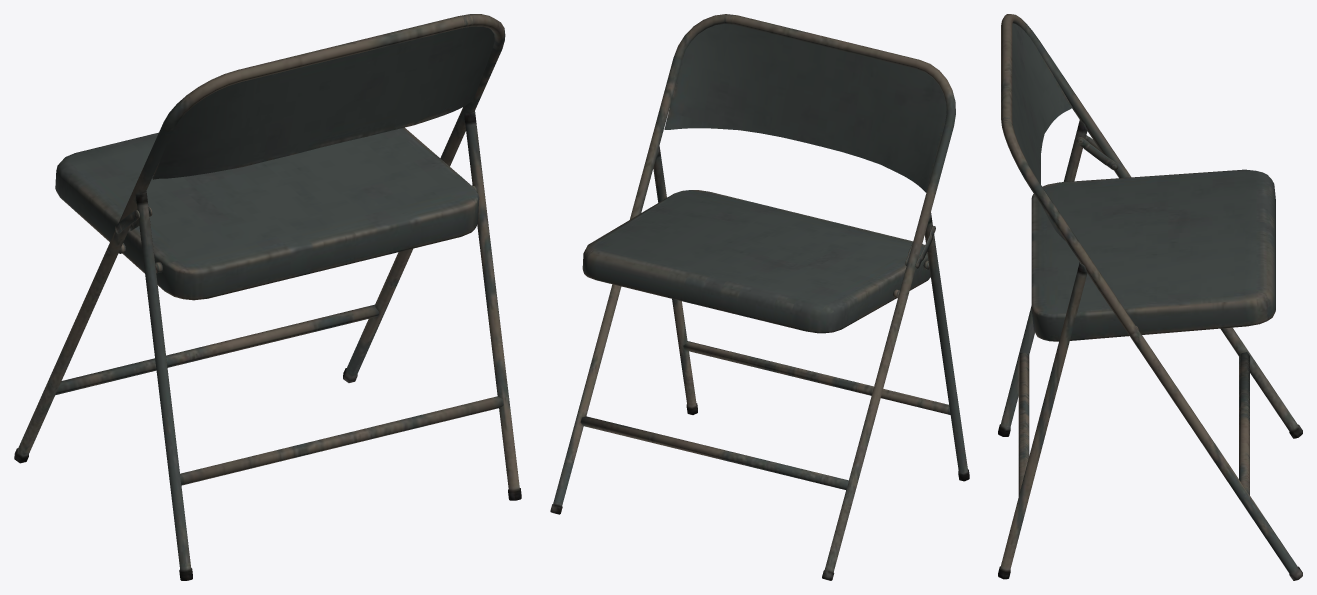
Rendered from chair.glb.
The picture shows the model from 3 angles, left to right: view 1: azimuth 30°, elevation 25°; view 2: azimuth 150°, elevation 25°; view 3: azimuth 270°, elevation 25°; orthographic projection. The views are drawn at different scales.
Parts seen in each view (by area): view 1: metal_chair; view 2: metal_chair; view 3: metal_chair.
Part boxes in pixels (x1,y1,x2,y2): metal_chair: (14,14,521,580); metal_chair: (550,14,969,580); metal_chair: (998,14,1302,580).
Bounding box in the file's own units: 0.6498 × 0.9 × 0.5645.
1 material, 1 textured.
